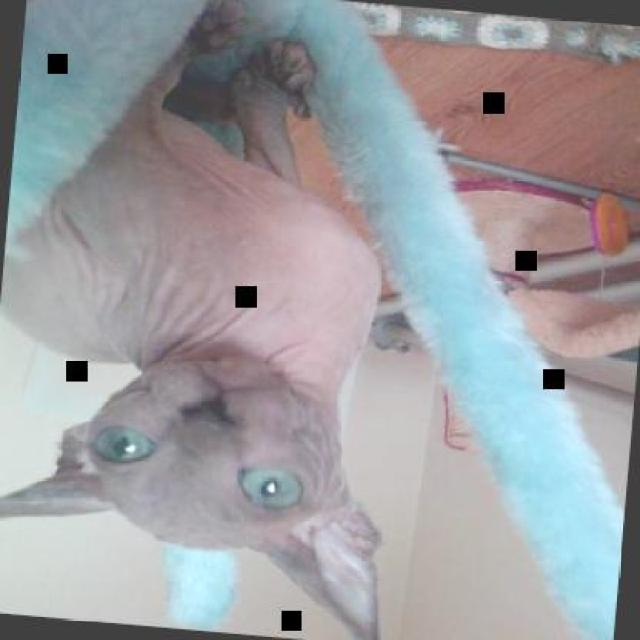cat: (0, 0, 443, 638)
